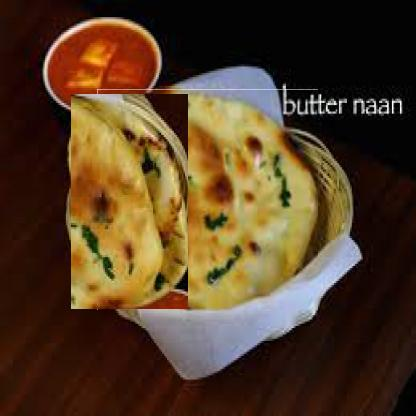naan: (97, 89, 318, 310), (70, 93, 188, 309)
